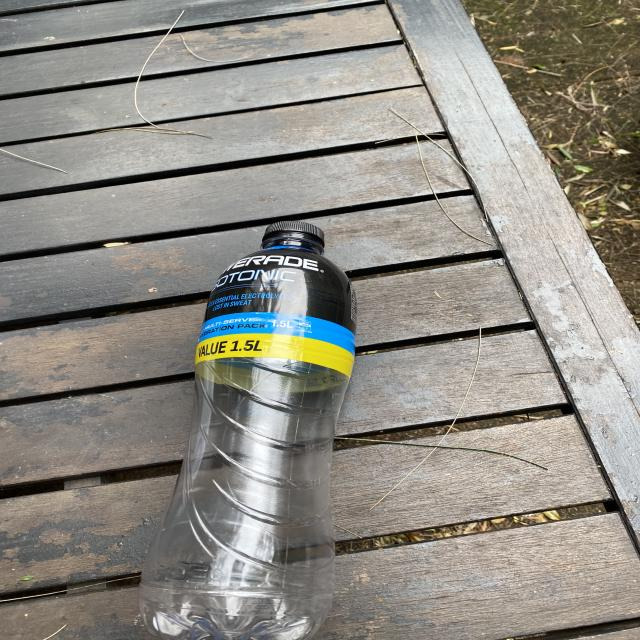bottle: (137, 221, 357, 640)
